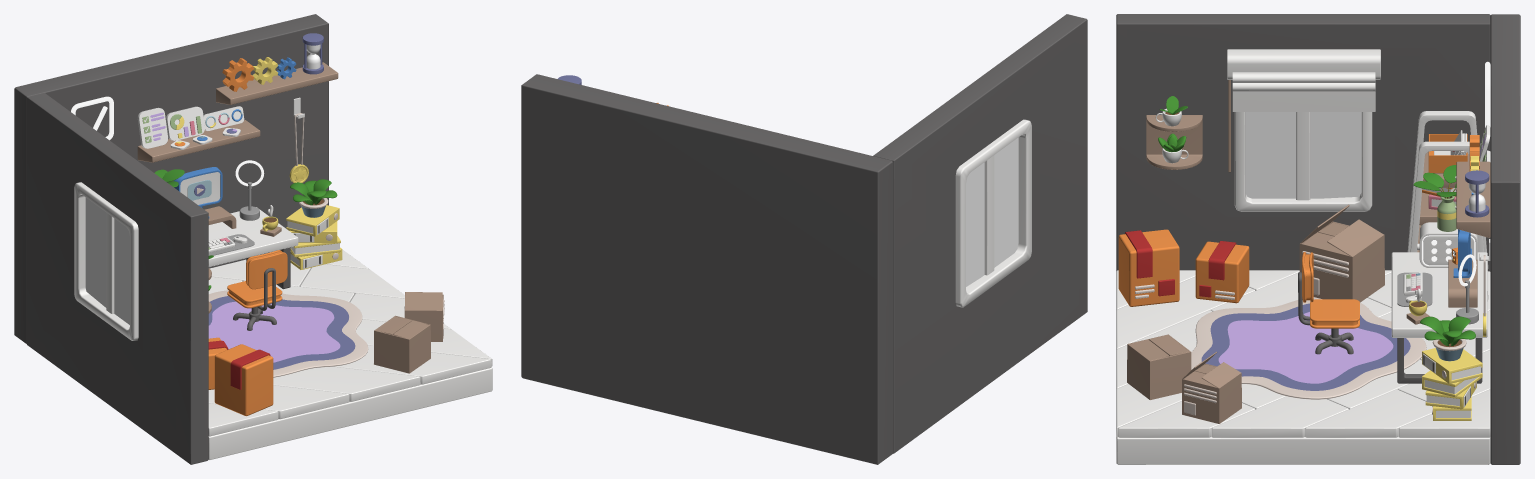
Rendered from Room_7.glb.
3 views of the same model, side by side, from view 1: azimuth 30°, elevation 25°; view 2: azimuth 150°, elevation 25°; view 3: azimuth 270°, elevation 25° (orthographic). The views are drawn at different scales.
Parts seen in each view (by area): view 1: Room_7_Wall_1, Room_7_Wall_2, Room_7_Floor_2, Room_7_Carpet_1, Room_7_Window_1, Room_7_Floor_1, Room_7_Box_3, Room_7_Chair_1, Room_7_Box_1, Room_7_Table_1, Room_7_Shelf_2, Room_7_Shelf_1 (+17 smaller); view 2: Room_7_Wall_2, Room_7_Wall_1, Room_7_Window_1; view 3: Room_7_Wall_1, Room_7_Floor_2, Room_7_Carpet_1, Room_7_Wall_2, Room_7_Window_1, Room_7_Floor_1, Room_7_Blinds_1, Room_7_Box_2, Room_7_Table_1, Room_7_Box_3, Room_7_Box_1, Room_7_Rack_1 (+21 smaller).
Part boxes in pixels (x1,y1,x2,y2): Room_7_Wall_1: [27, 93, 208, 464]; Room_7_Wall_2: [14, 14, 328, 343]; Room_7_Floor_2: [208, 249, 492, 436]; Room_7_Carpet_1: [208, 290, 368, 377]; Room_7_Window_1: [74, 182, 138, 340]; Room_7_Floor_1: [208, 367, 492, 460]; Room_7_Box_3: [214, 344, 273, 416]; Room_7_Chair_1: [227, 250, 287, 330]; Room_7_Box_1: [374, 315, 430, 373]; Room_7_Table_1: [208, 207, 298, 289]; Room_7_Shelf_2: [216, 62, 338, 104]; Room_7_Shelf_1: [137, 120, 260, 162]; Room_7_Wall_2: [521, 74, 893, 464]; Room_7_Wall_1: [873, 14, 1087, 453]; Room_7_Window_1: [955, 119, 1031, 307]; Room_7_Wall_1: [1116, 14, 1490, 271]; Room_7_Floor_2: [1116, 270, 1490, 437]; Room_7_Carpet_1: [1191, 297, 1426, 399]; Room_7_Wall_2: [1490, 14, 1520, 464]; Room_7_Window_1: [1234, 112, 1372, 211]; Room_7_Floor_1: [1116, 436, 1490, 464]; Room_7_Blinds_1: [1227, 49, 1380, 172]; Room_7_Box_2: [1299, 204, 1384, 302]; Room_7_Table_1: [1391, 252, 1487, 383]; Room_7_Box_3: [1118, 229, 1179, 306]; Room_7_Box_1: [1127, 334, 1191, 399]; Room_7_Rack_1: [1407, 111, 1488, 300].
Bounding box in the file's own units: 5.4 × 4.17 × 5.38.
Materials: 3 (1 with a texture image).
